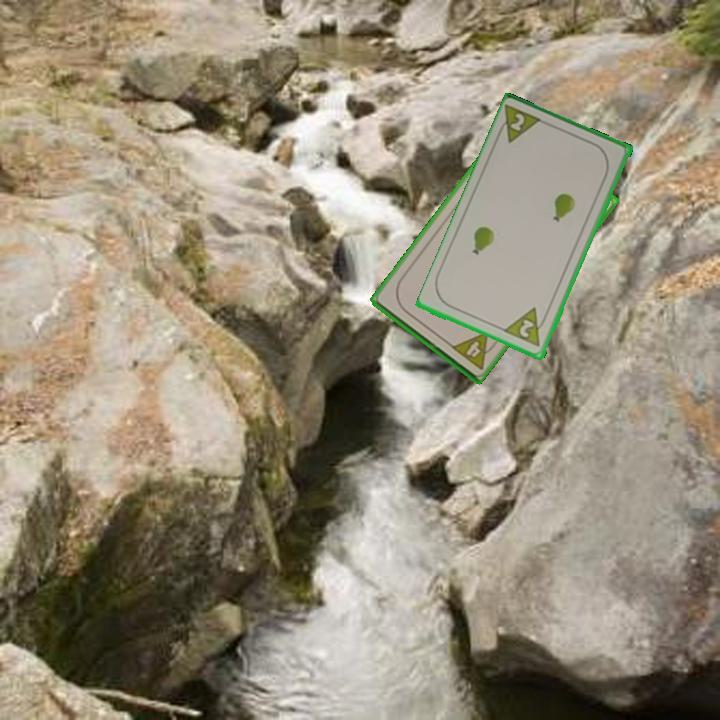2p: (492, 102, 547, 147), (502, 304, 551, 350)
4p: (447, 328, 500, 373)
